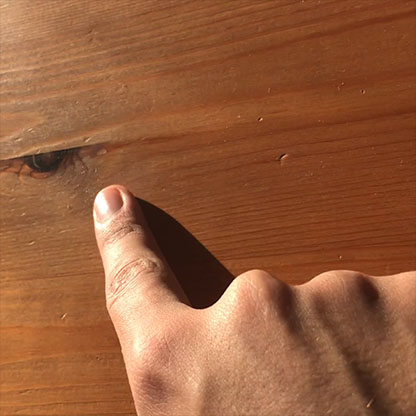fingertip: (82, 177, 142, 233)
